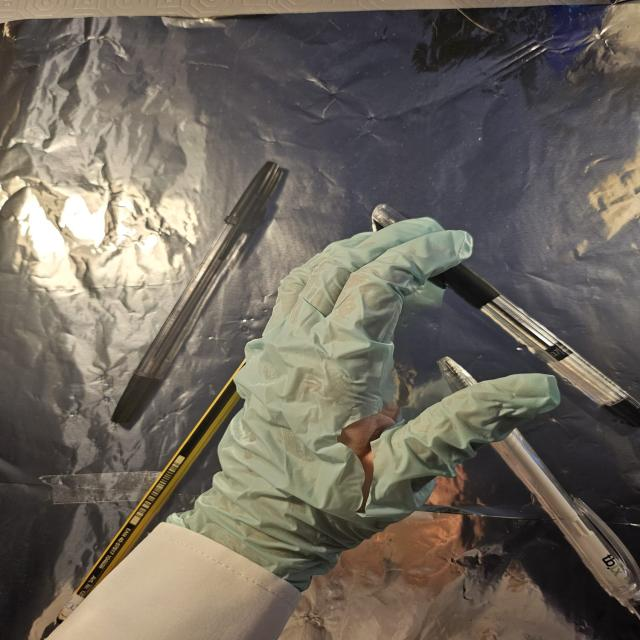gloves_damaged: (206, 210, 560, 588)
